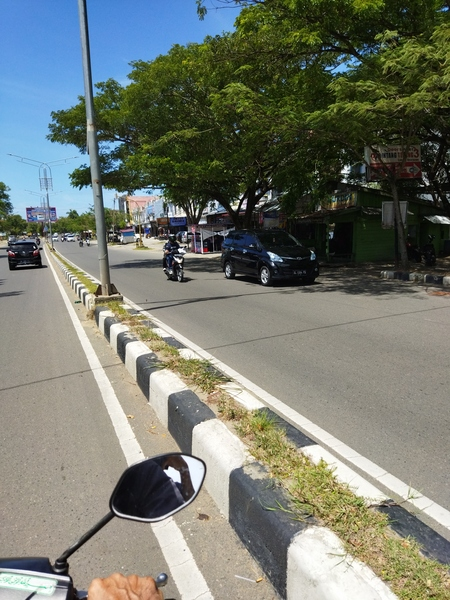car: (220, 226, 320, 294), (5, 236, 46, 274)
motorcycle: (162, 246, 191, 285)
